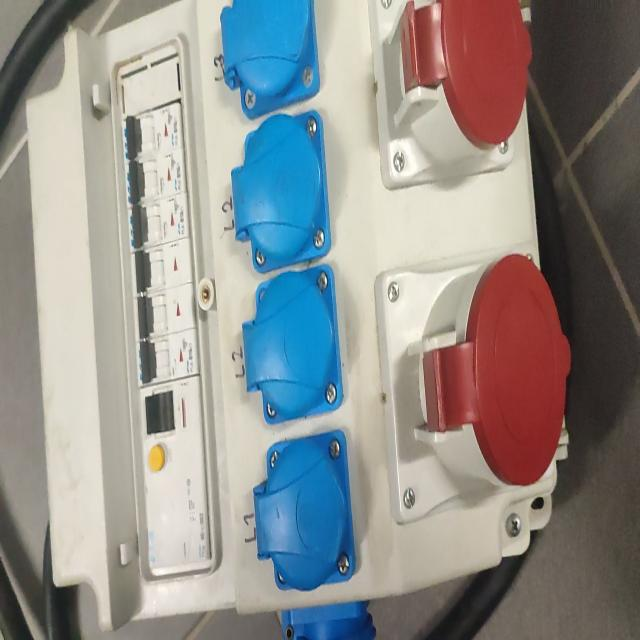400v socket: (373, 241, 572, 525), (367, 0, 534, 191)
house plug covered: (253, 429, 355, 591), (231, 110, 331, 274), (242, 263, 343, 423), (220, 0, 321, 119), (282, 602, 377, 640)
